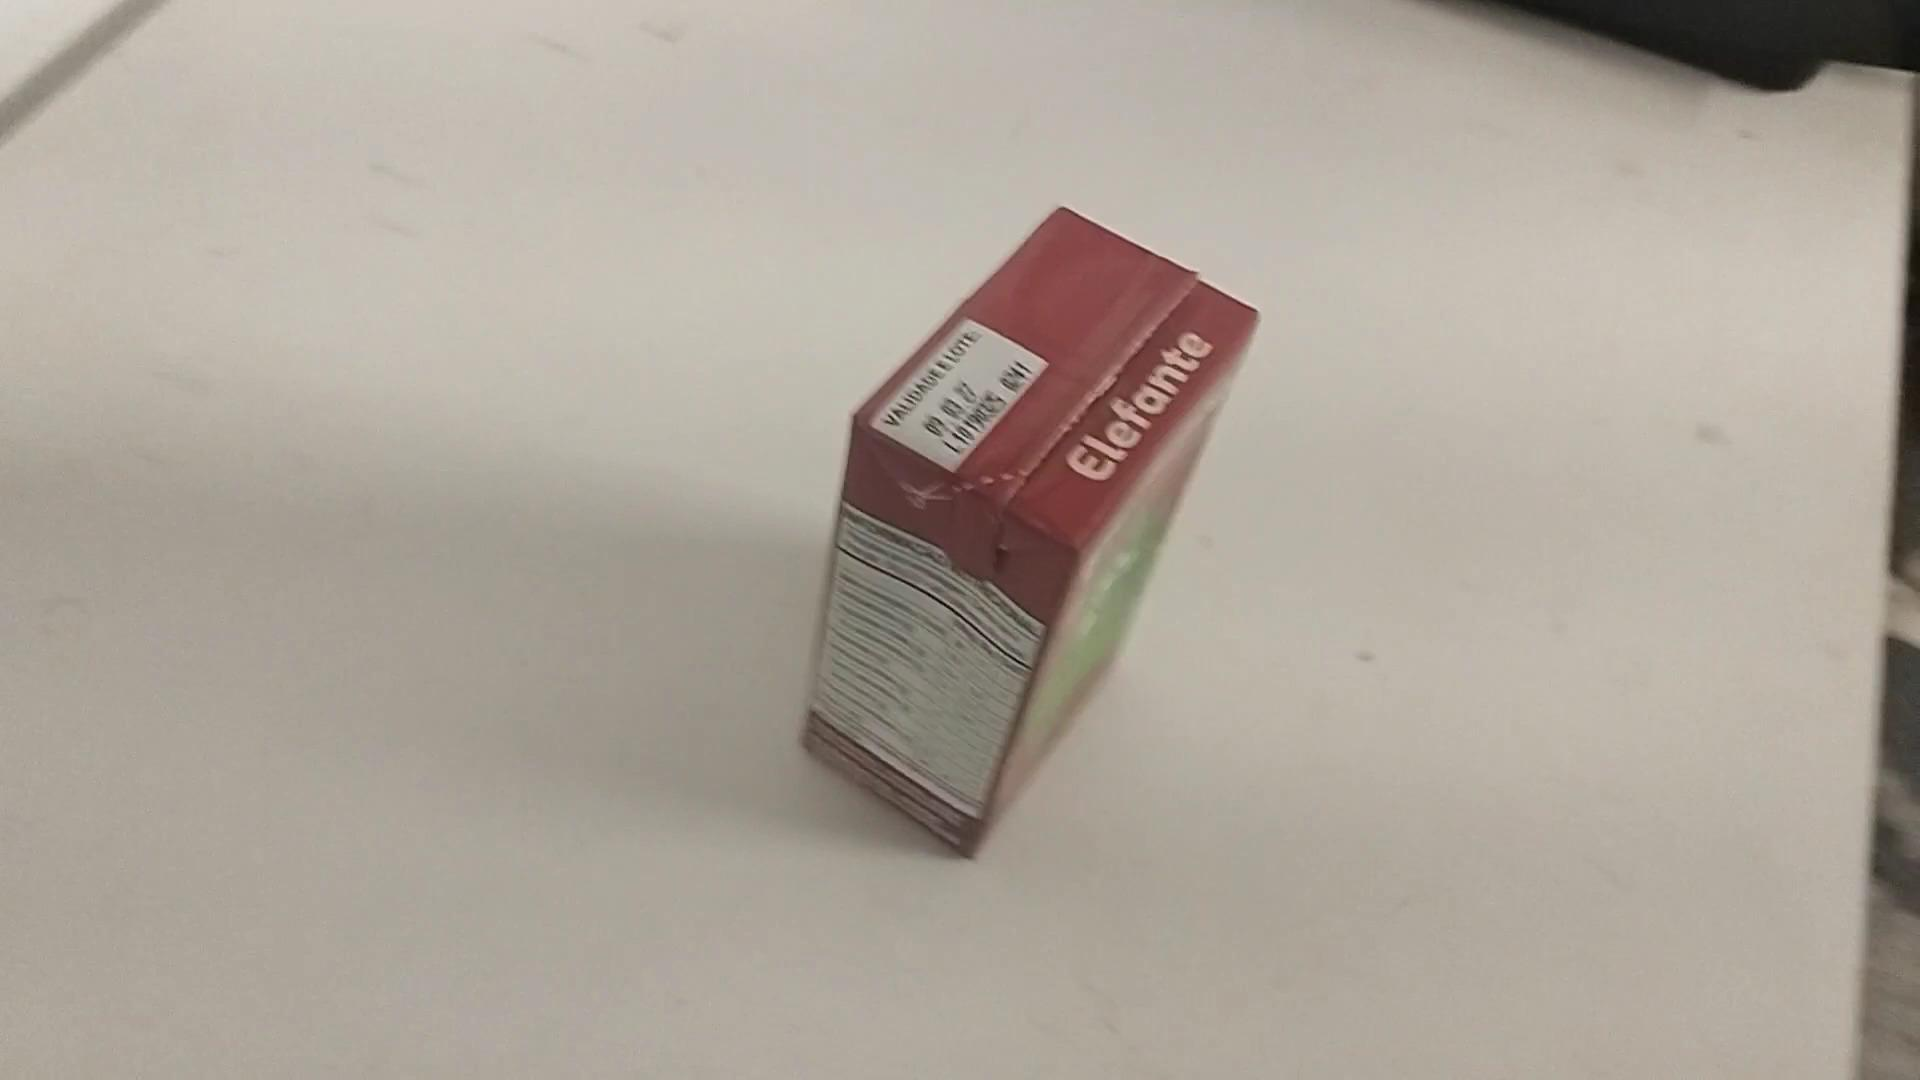tomate: (795, 203, 1263, 868)
